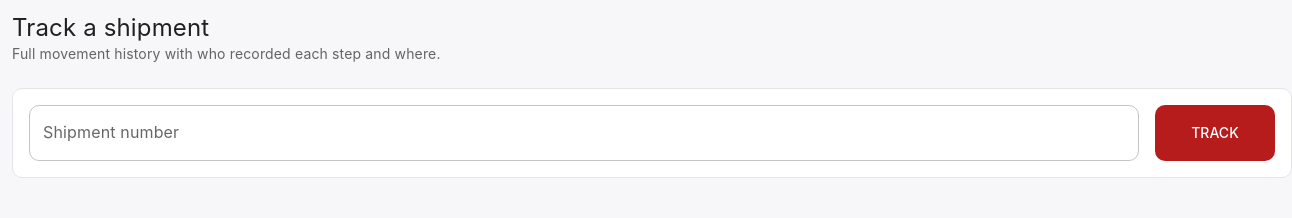
Test: TrackingPage › rejects malformed numbers without calling the API
Type "abc" into the field labelled "Shipment number" at (584,133), box [29,105,1139,161]
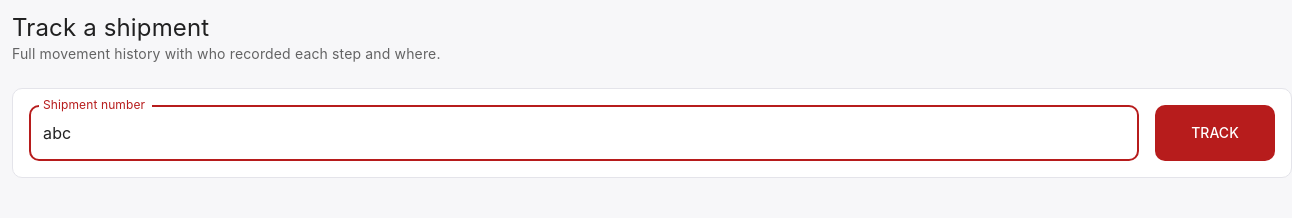
Click the button "Track" at (1215,133), box [1155,105,1275,161]
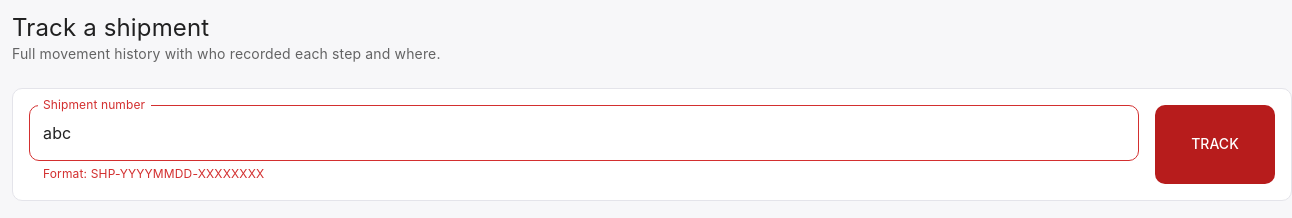
Check: the text "Format: SHP-YYYYMMDD-XXXXXXXX" is shown, box [43,166,264,181]
